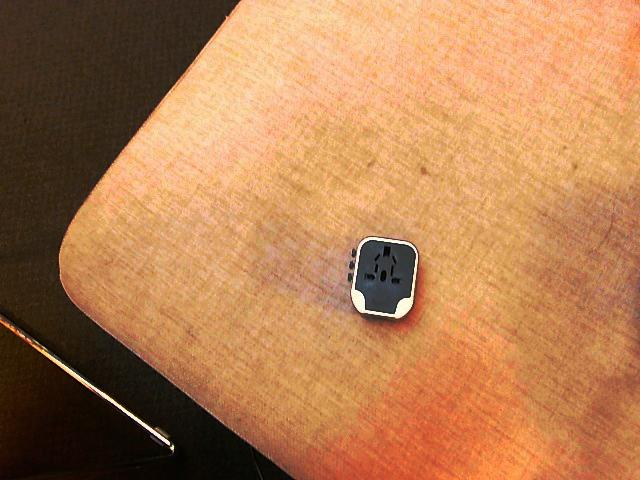adapter: (347, 235, 419, 319)
